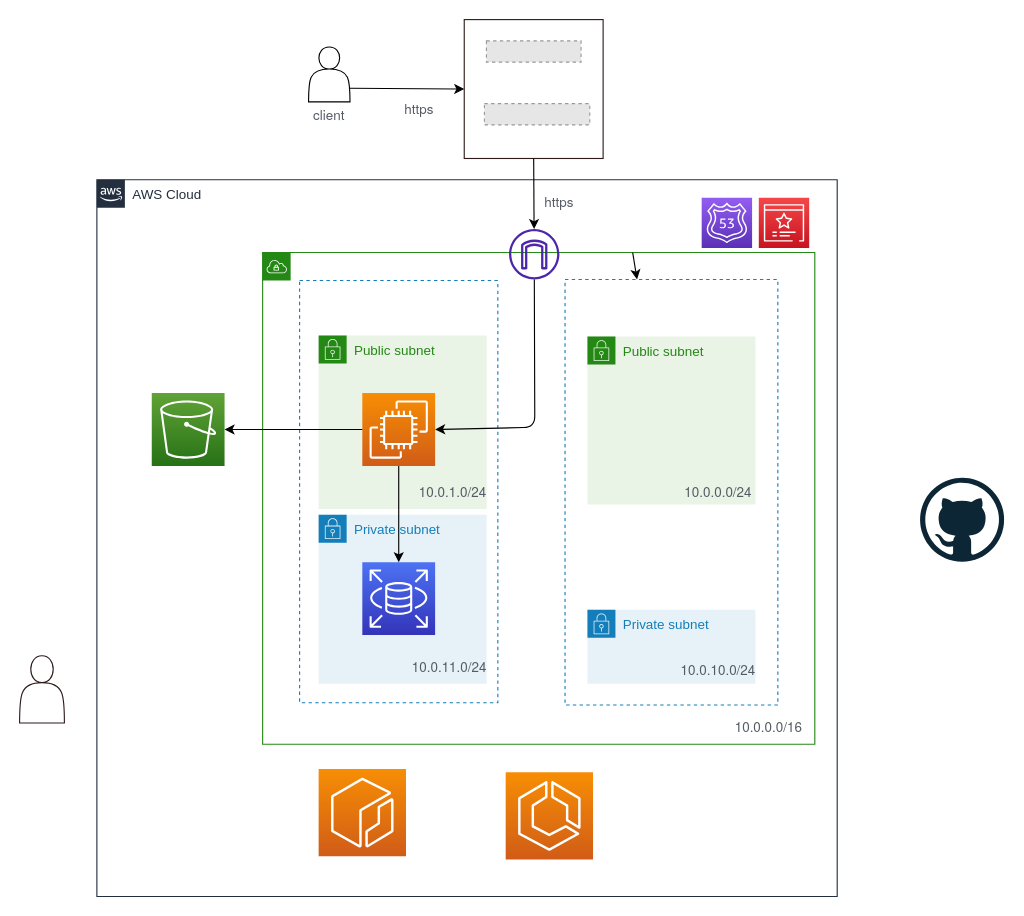
Some shapes in this 1024 by 916 pixel diagram are drawn without their labels. Grey dashed boxes stand in for pictures. Each missing label, with the box of its shape:
ap-northeast-1a: (564, 278, 778, 705)
ap-northeast-1c: (298, 279, 498, 703)
VPC: (262, 251, 815, 744)
